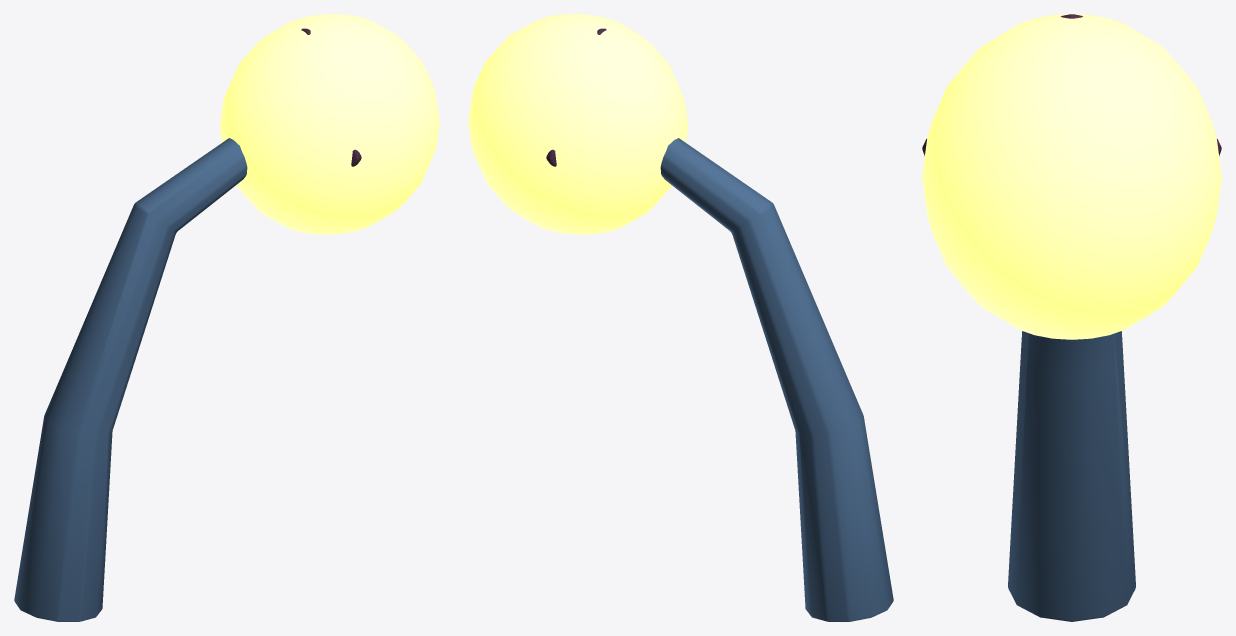
File: lure_lantern.glb
3 views of the same model, side by side, from view 1: azimuth 30°, elevation 25°; view 2: azimuth 150°, elevation 25°; view 3: azimuth 270°, elevation 25° (orthographic). The views are drawn at different scales.
Parts seen in each view (by area): view 1: lure_lantern; view 2: lure_lantern; view 3: lure_lantern.
Boxes of the visible parts, x1,y1,x2,y2 form: lure_lantern: [14, 14, 439, 621]; lure_lantern: [468, 14, 893, 621]; lure_lantern: [922, 14, 1221, 621].
Size of the model in its own units: 1 by 1.23 by 0.44.
